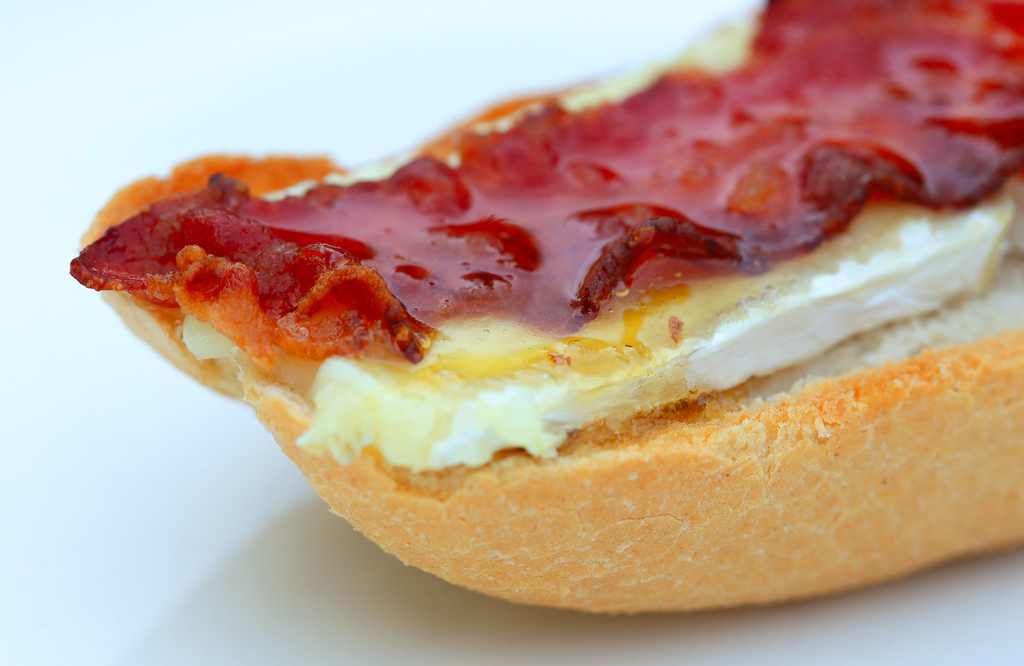slice of bread: (75, 181, 1024, 626)
